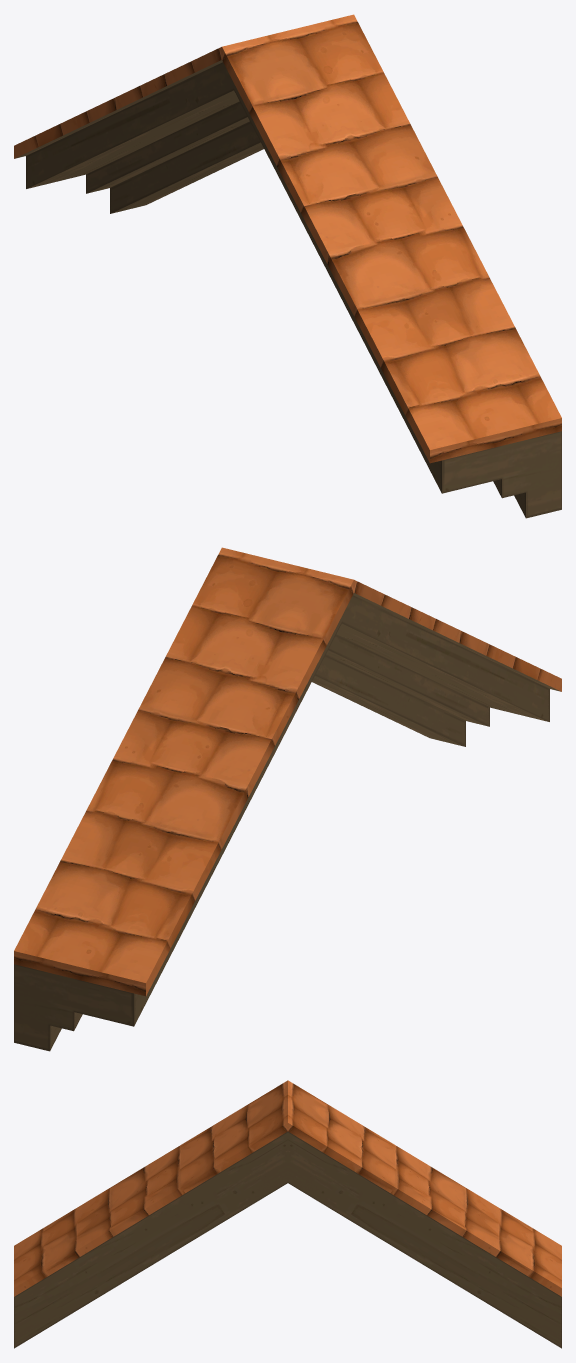
Rendered from SM_building_roof_16.glb.
3 renders of one model, top to bottom at view 1: azimuth 30°, elevation 25°; view 2: azimuth 150°, elevation 25°; view 3: azimuth 270°, elevation 25°, orthographic. The views are drawn at different scales.
Parts seen in each view (by area): view 1: SM_building_roof_16; view 2: SM_building_roof_16; view 3: SM_building_roof_16.
Part boxes in pixels (box(x1,y1,x2,y2)): SM_building_roof_16: box(14, 14, 561, 518); SM_building_roof_16: box(14, 547, 561, 1051); SM_building_roof_16: box(14, 1080, 561, 1348).
Size of the model in its own units: 1.1 by 2.73 by 6.
2 materials, 2 textured.
